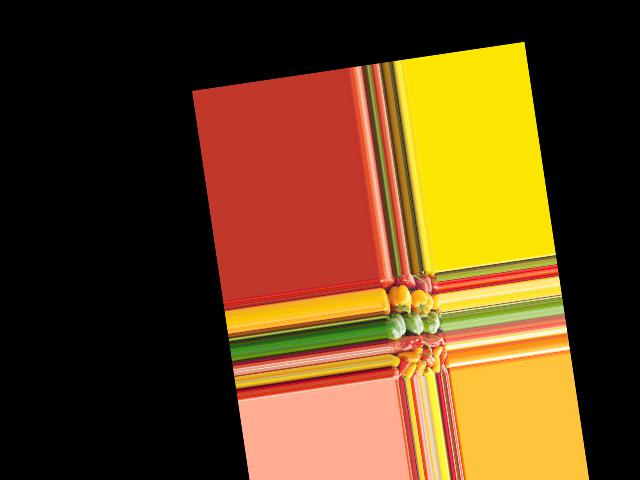bell_pepper: (394, 356, 412, 377)
